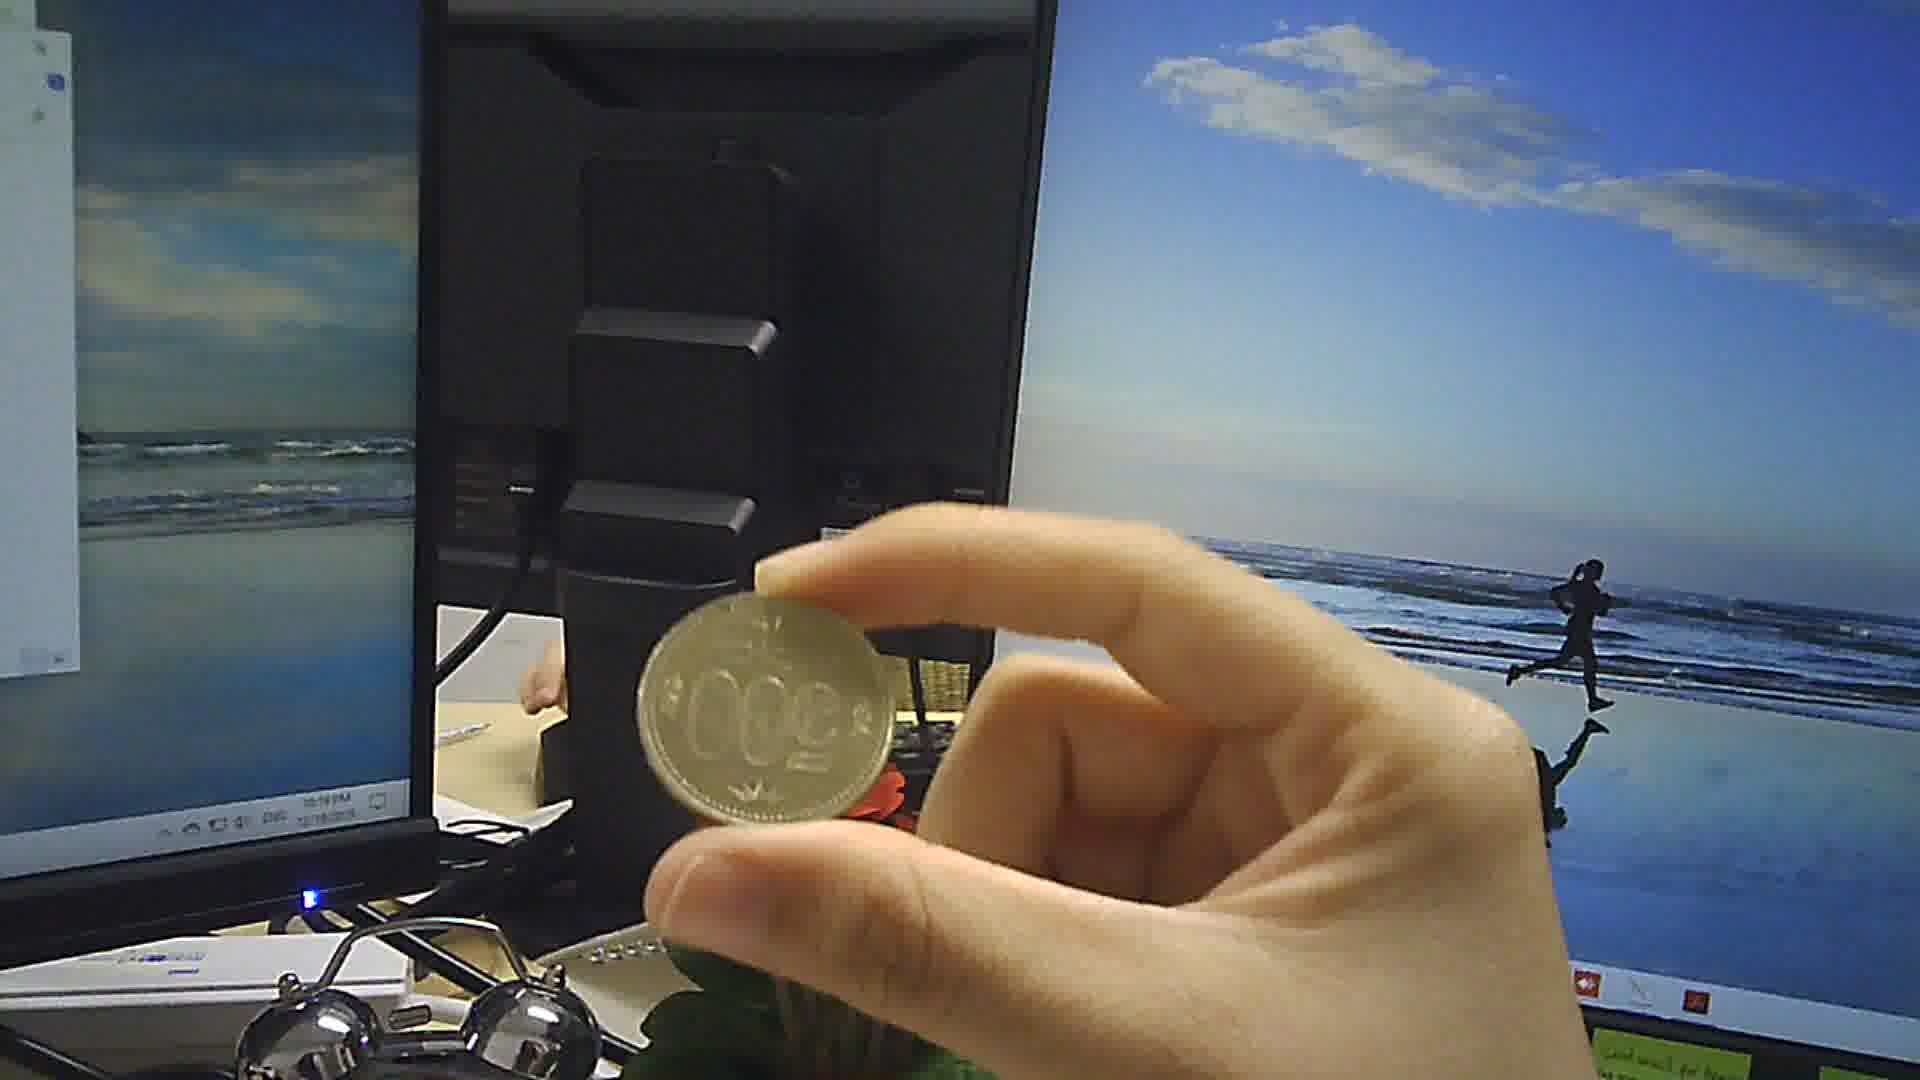500 Yen: (637, 593, 894, 822)
